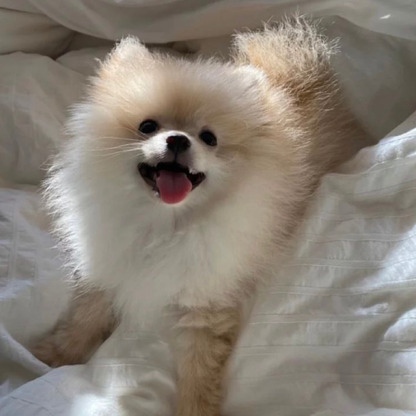Pomeranian: (48, 22, 326, 401)
